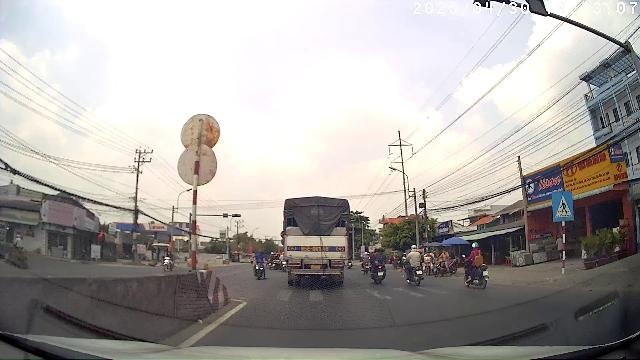423a-duong-nguoi-di-bo-sang-ngang-1: (552, 191, 573, 220)
